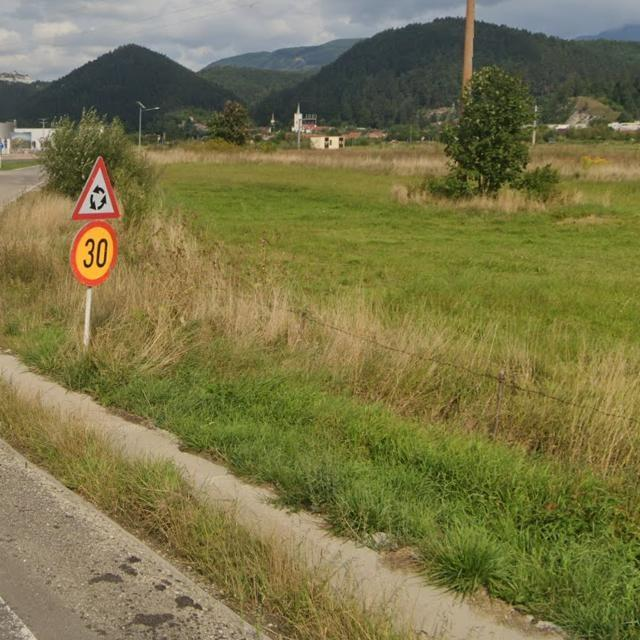forb_speed_over_30: (69, 218, 119, 286)
